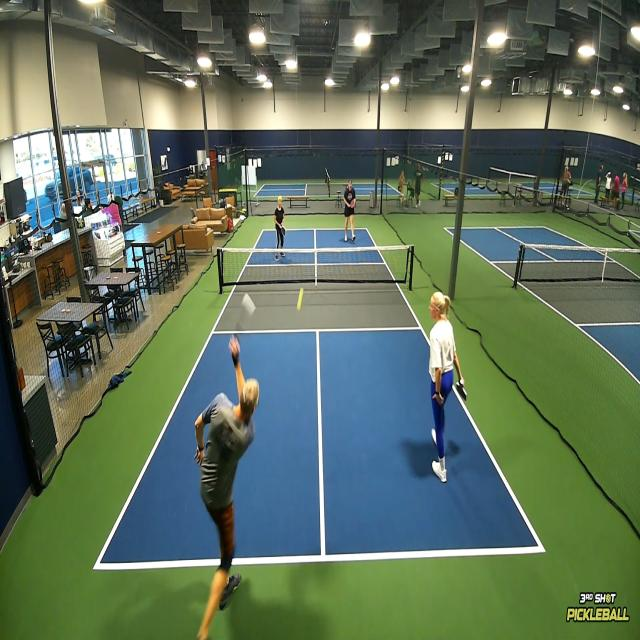Pickleball: (296, 286, 306, 314)
